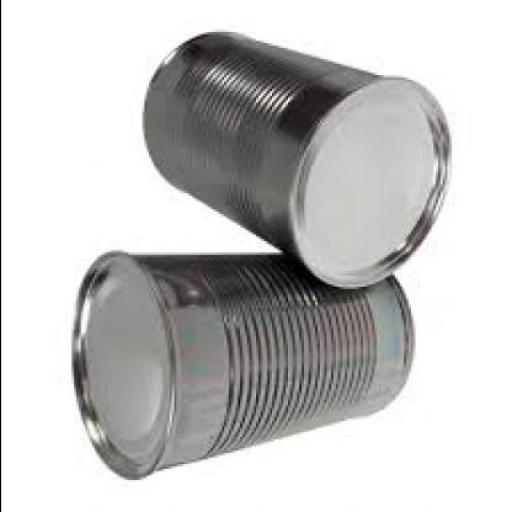metal: (136, 30, 446, 294), (70, 253, 410, 482)
